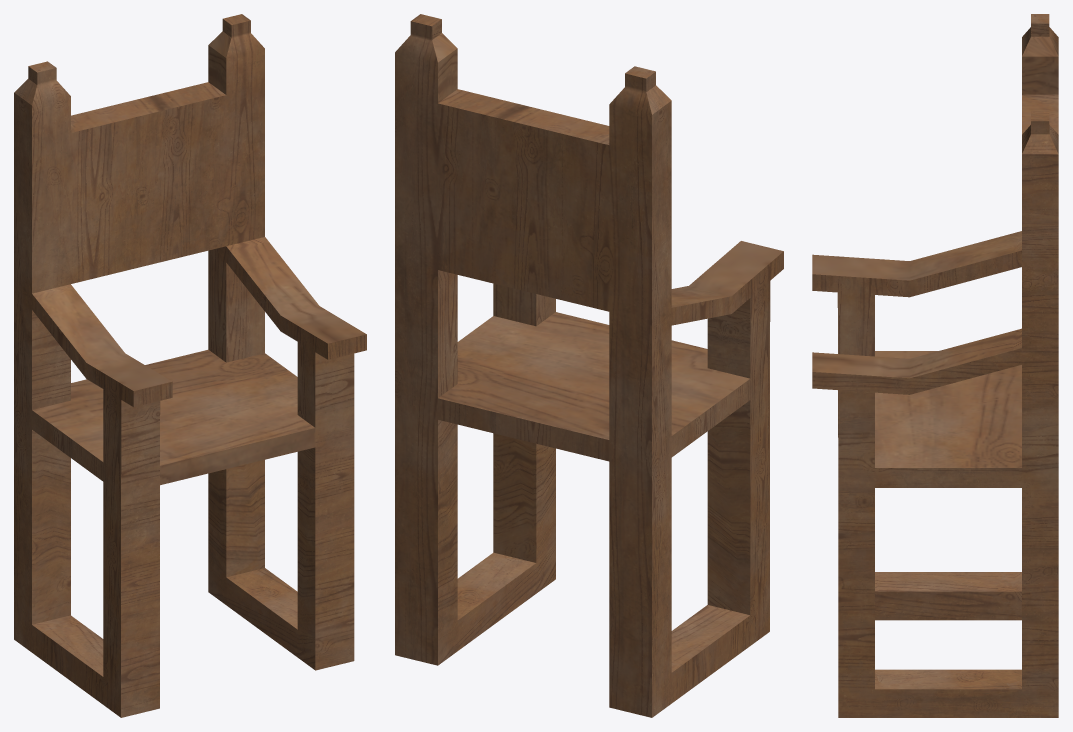
File: chair.glb
3 renders of one model, left to right at view 1: azimuth 30°, elevation 25°; view 2: azimuth 150°, elevation 25°; view 3: azimuth 270°, elevation 25°, orthographic. The views are drawn at different scales.
Parts seen in each view (by area): view 1: pCube1; view 2: pCube1; view 3: pCube1.
Boxes of the visible parts, x1=… form: pCube1: x1=14, y1=14, x2=366, y2=717; pCube1: x1=395, y1=14, x2=783, y2=717; pCube1: x1=812, y1=14, x2=1058, y2=717.
Bounding box in the file's own units: 47.66 × 112 × 42.33.
1 material, 1 textured.
